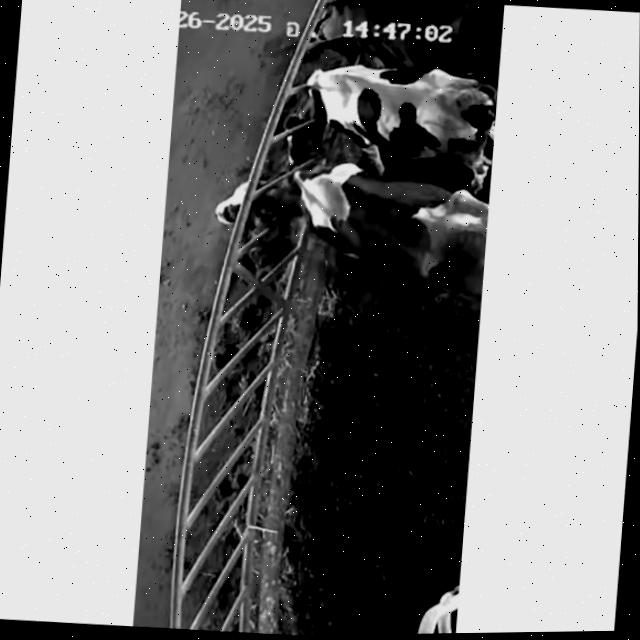eat: (195, 150, 370, 254), (244, 60, 396, 156), (281, 0, 414, 62)
